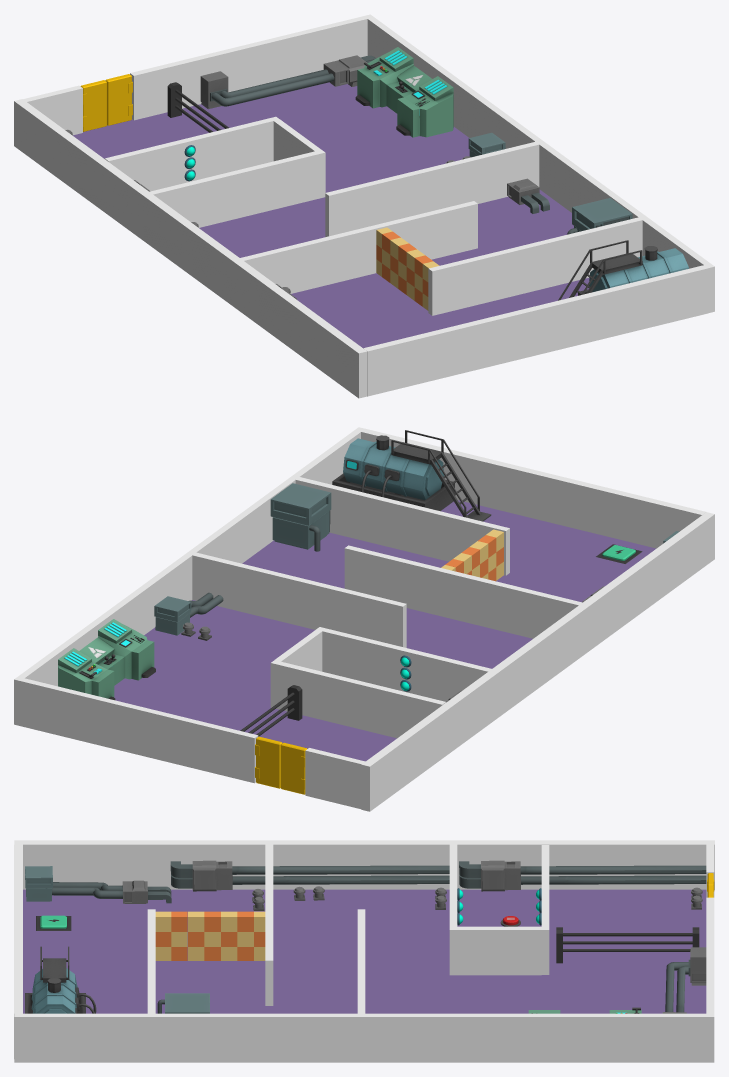
Rendered from maps_43.fbx.
3 renders of one model, top to bottom at view 1: azimuth 30°, elevation 25°; view 2: azimuth 150°, elevation 25°; view 3: azimuth 270°, elevation 25°, orthographic.
Visible parts, largest first — view 1: wall_01_08_geo, wall_01_07_geo, wall_01_05_geo, wall_01_09_geo3, wall_01_09_geo4, wall_01_09_geo, wall_01_06_geo, wall_01_09_geo8, wall_01_09_geo9, wall_01_09_geo6, table_01_geo, generatorStation_03_geo1 (+7 smaller); view 2: wall_01_08_geo, wall_01_07_geo, wall_01_05_geo, wall_01_09_geo, wall_01_09_geo8, wall_01_09_geo4, wall_01_06_geo, wall_01_09_geo3, tankwater_geo, wall_01_09_geo6, wall_01_09_geo9, table_01_geo (+6 smaller); view 3: wall_01_08_geo, wall_01_06_geo, wall_01_07_geo, generatorStation_03_geo3, generatorStation_03_geo2, wall_01_11_geo6, generatorStation_04_geo, tankwater_geo, generatorStation_03_geo1, wall_01_05_geo, wall_01_09_geo8, wall_01_09_geo9 (+10 smaller).
Boxes of the visible parts, x1=… form: wall_01_08_geo: x1=73, y1=82, x2=589, y2=348; wall_01_07_geo: x1=14, y1=99, x2=367, y2=398; wall_01_05_geo: x1=363, y1=265, x2=708, y2=396; wall_01_09_geo3: x1=428, y1=217, x2=642, y2=315; wall_01_09_geo4: x1=325, y1=141, x2=539, y2=236; wall_01_09_geo: x1=130, y1=16, x2=367, y2=120; wall_01_06_geo: x1=364, y1=14, x2=714, y2=313; wall_01_09_geo8: x1=240, y1=201, x2=477, y2=293; wall_01_09_geo9: x1=149, y1=150, x2=325, y2=227; wall_01_09_geo6: x1=104, y1=116, x2=279, y2=191; table_01_geo: x1=355, y1=47, x2=453, y2=137; generatorStation_03_geo1: x1=200, y1=55, x2=375, y2=109; wall_01_08_geo: x1=114, y1=500, x2=656, y2=761; wall_01_07_geo: x1=361, y1=512, x2=714, y2=811; wall_01_05_geo: x1=361, y1=428, x2=705, y2=548; wall_01_09_geo: x1=20, y1=678, x2=258, y2=783; wall_01_09_geo8: x1=344, y1=545, x2=582, y2=638; wall_01_09_geo4: x1=192, y1=552, x2=406, y2=647; wall_01_06_geo: x1=14, y1=427, x2=364, y2=725; wall_01_09_geo3: x1=295, y1=477, x2=509, y2=575; tankwater_geo: x1=332, y1=430, x2=491, y2=521; wall_01_09_geo6: x1=270, y1=660, x2=445, y2=738; wall_01_09_geo9: x1=316, y1=627, x2=491, y2=701; table_01_geo: x1=58, y1=619, x2=155, y2=700; wall_01_08_geo: x1=23, y1=889, x2=706, y2=1013; wall_01_06_geo: x1=14, y1=1013, x2=714, y2=1062; wall_01_07_geo: x1=14, y1=840, x2=714, y2=890; generatorStation_03_geo3: x1=170, y1=860, x2=449, y2=891; generatorStation_03_geo2: x1=459, y1=860, x2=706, y2=891; wall_01_11_geo6: x1=457, y1=926, x2=541, y2=975; generatorStation_04_geo: x1=25, y1=866, x2=171, y2=903; tankwater_geo: x1=25, y1=946, x2=96, y2=1013; generatorStation_03_geo1: x1=662, y1=947, x2=706, y2=1013; wall_01_05_geo: x1=14, y1=844, x2=22, y2=1058; wall_01_09_geo8: x1=265, y1=844, x2=273, y2=1005; wall_01_09_geo9: x1=449, y1=844, x2=457, y2=975.
Size of the model in its own units: 73.34 by 13.4 by 123.
Materials: 11 (11 with a texture image).
